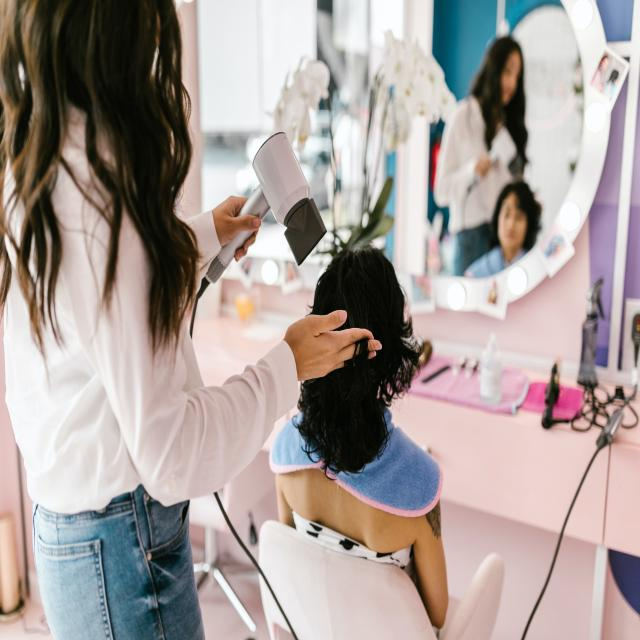dryer: (195, 130, 328, 300)
